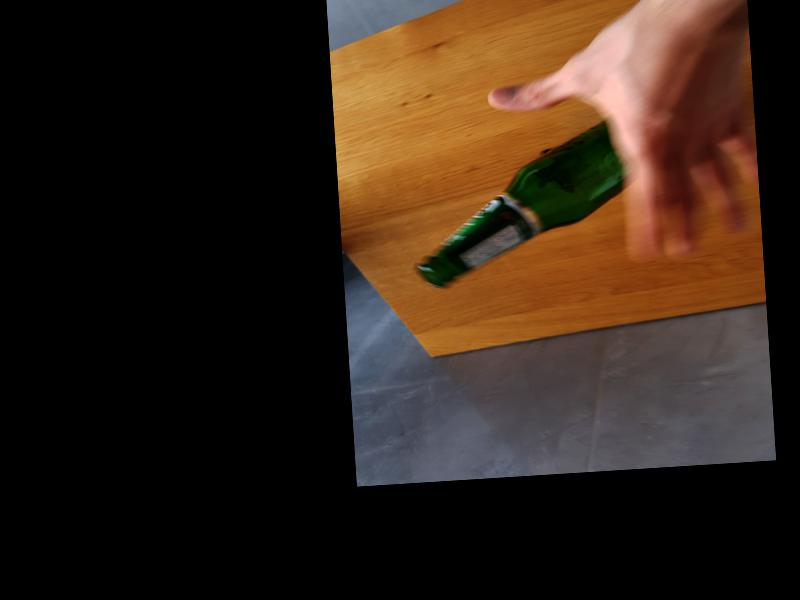Beer: (407, 118, 628, 288)
